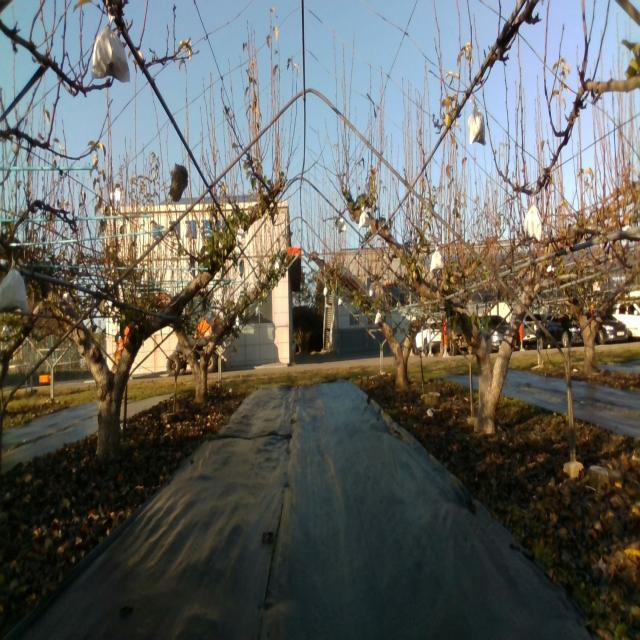pearbags: (88, 13, 131, 78), (0, 263, 28, 313), (466, 97, 486, 146), (524, 206, 542, 243), (430, 247, 443, 274), (358, 207, 370, 230), (236, 224, 247, 245)
